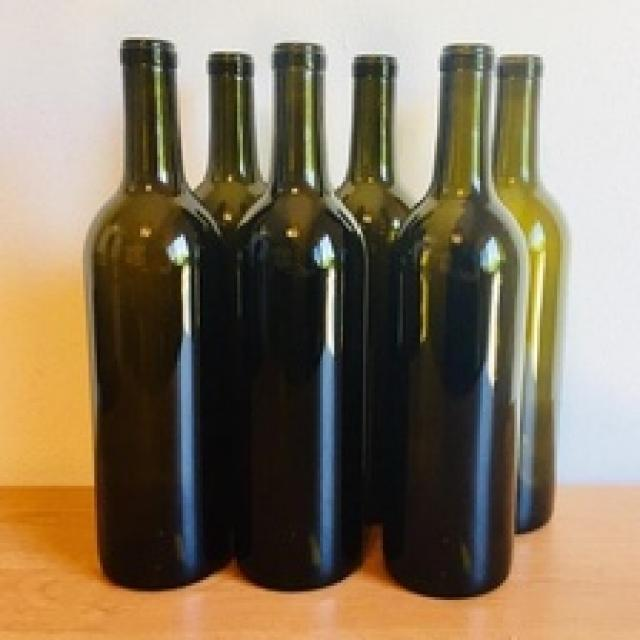garbage: (77, 35, 567, 611)
